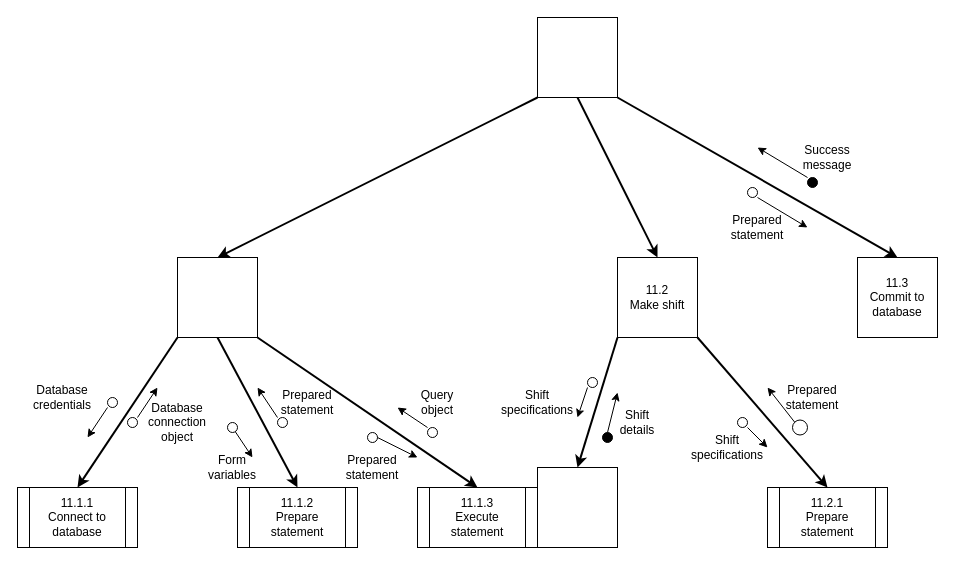
This 955x565 diagram has some shape labels left out. Each missing label, with the centre of its shape:
11.0 Schedule recurring shift: pixel 577 57
11.1 get entity search: pixel 217 297
11.2.2 Display shift details: pixel 577 507
